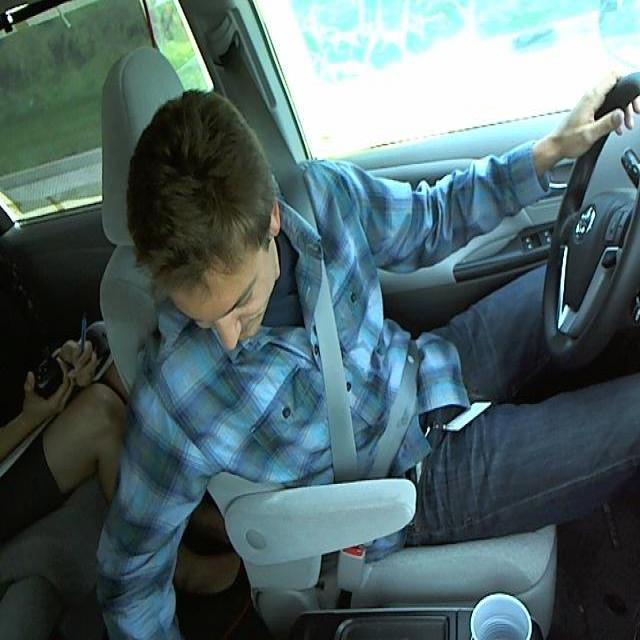seatbelt: (314, 296, 427, 480)
